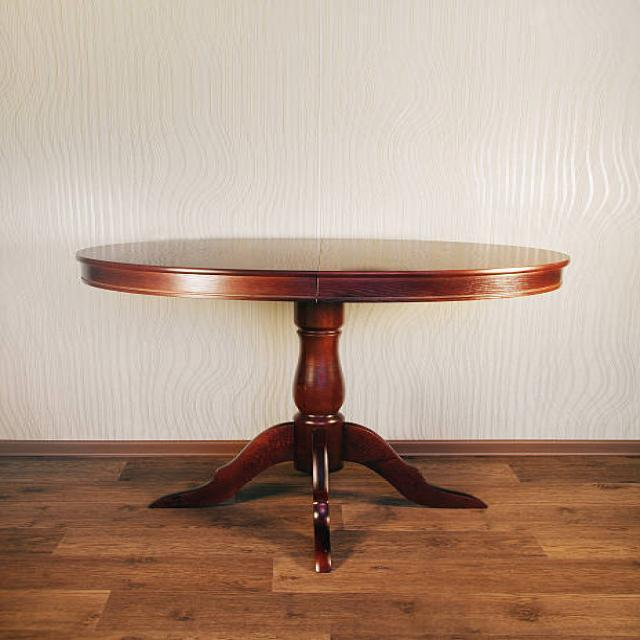table: (75, 236, 570, 573)
